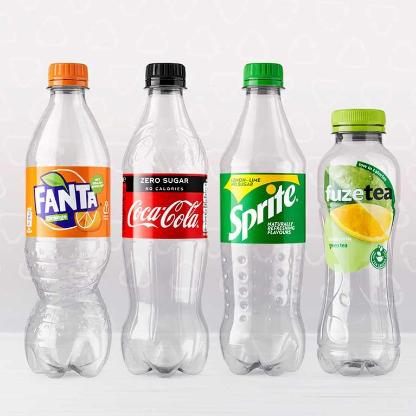Plastic Bottle: (117, 55, 215, 385), (20, 57, 116, 382), (216, 60, 312, 380), (318, 106, 402, 384)
